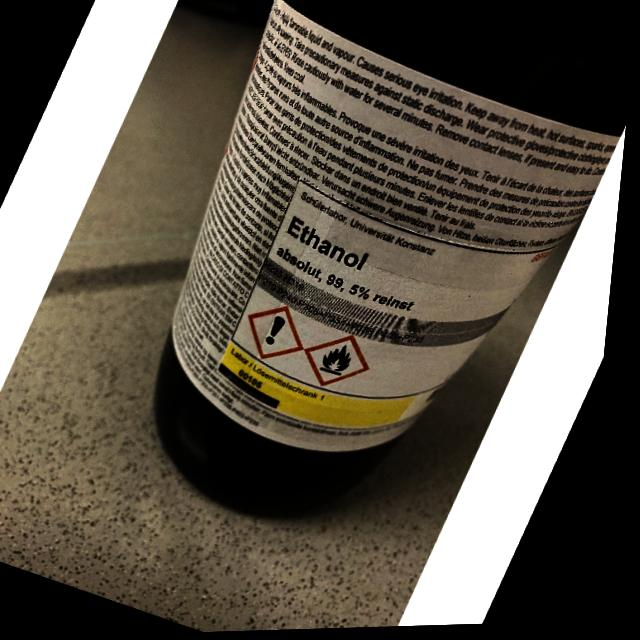flammable: (298, 323, 390, 402)
health-ozone layer hazard: (237, 295, 327, 373)
